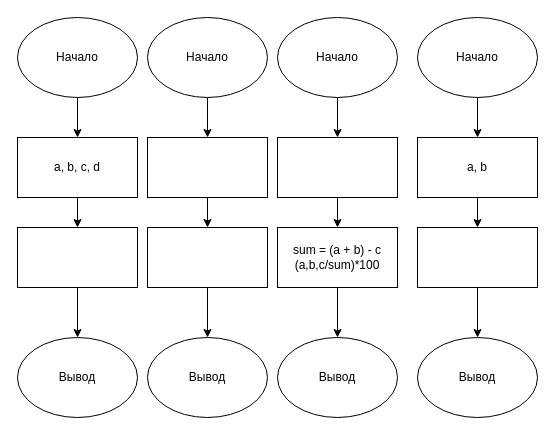
The diagram is 555 pixels wide and 435 high, and some of its shapes have lost their labels. Each missing label, with the box of its shape:
(a*b)*3: (416, 226, 538, 288)
a, b, c, sum: (276, 136, 398, 198)
b = a* 0,93 c = a*0,06 d = a*0,01: (16, 226, 138, 288)
Sbe = Ssq - Scr: (146, 226, 268, 288)
Ssq, Scr, Sbe, Pi, r: (146, 136, 268, 198)
